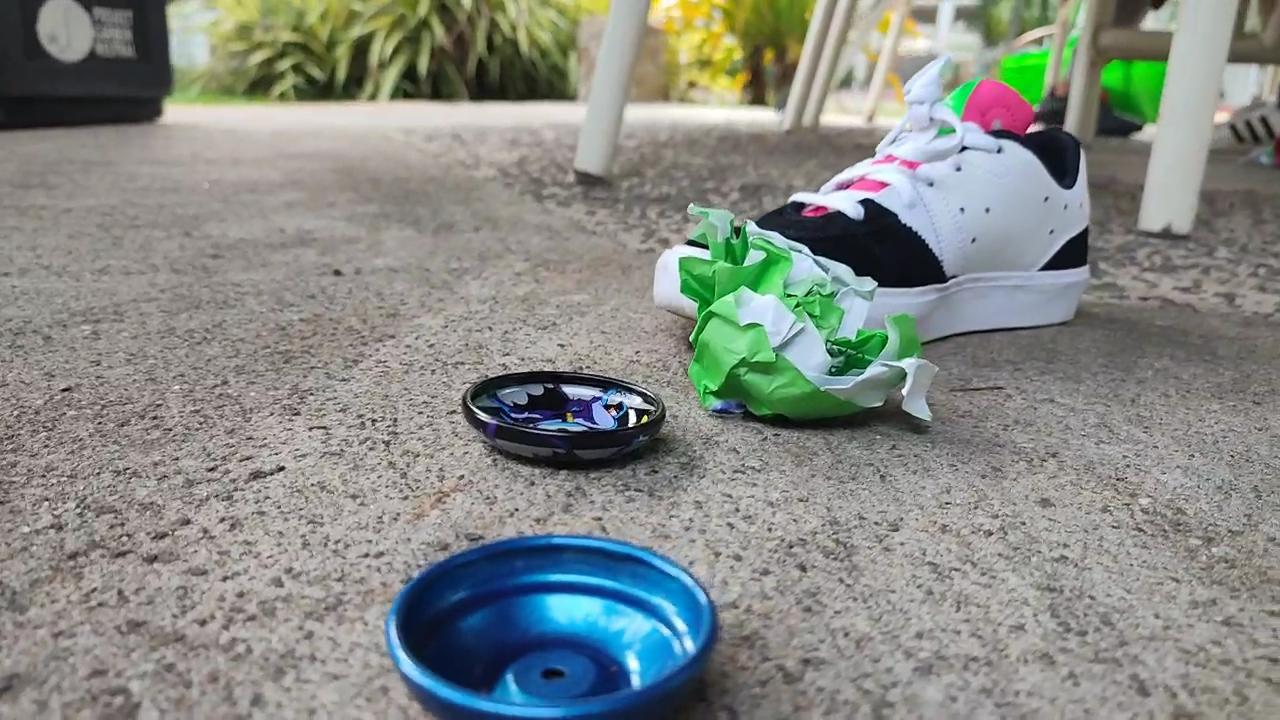Paper: (654, 189, 949, 439)
